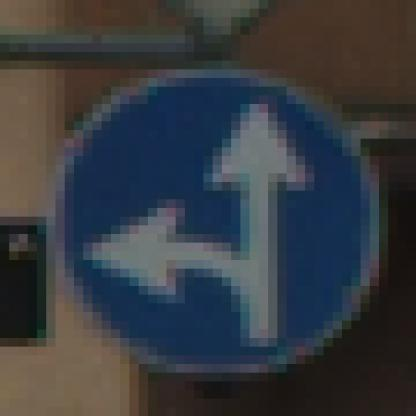Straight or Left: (56, 44, 371, 374)
